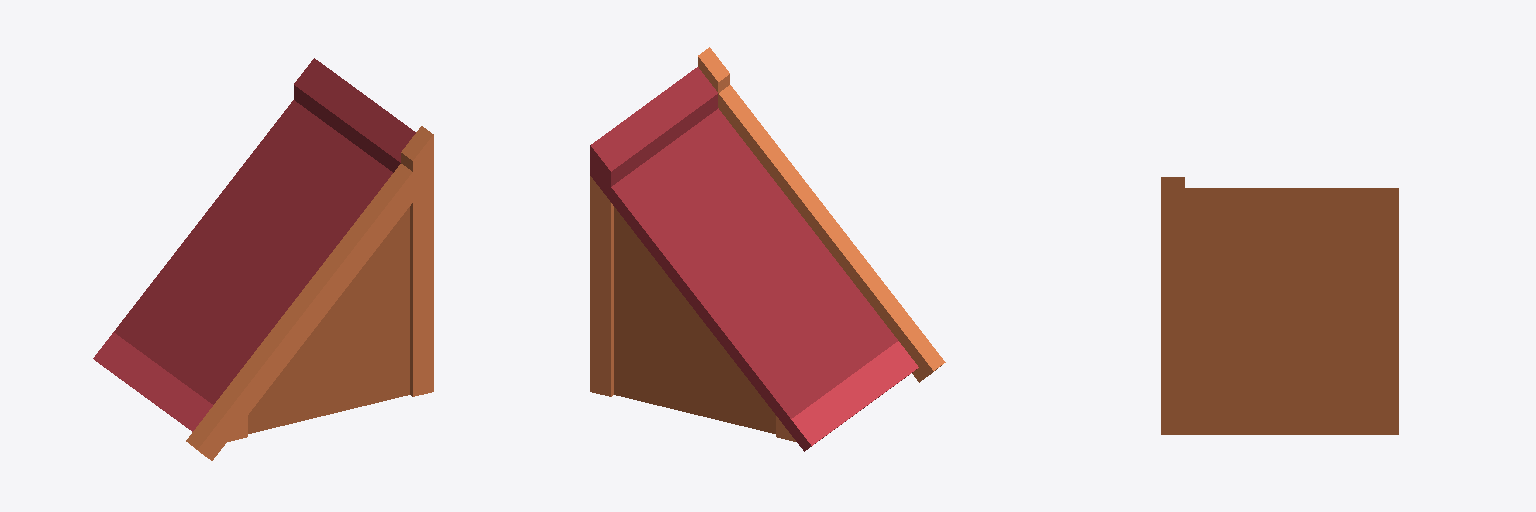
The model's file is roofHighRight.obj.
The picture shows the model from 3 angles: view 1: azimuth 30°, elevation 25°; view 2: azimuth 150°, elevation 25°; view 3: azimuth 270°, elevation 25°; orthographic projection.
Visible parts, largest first — view 1: roofHighRight; view 2: roofHighRight; view 3: roofHighRight.
Boxes of the visible parts, box(x1,y1,x2,y2) form: roofHighRight: box(93, 58, 433, 460); roofHighRight: box(590, 47, 945, 451); roofHighRight: box(1161, 177, 1398, 434).
Bounding box in the file's own units: 1.14 × 1.26 × 1.